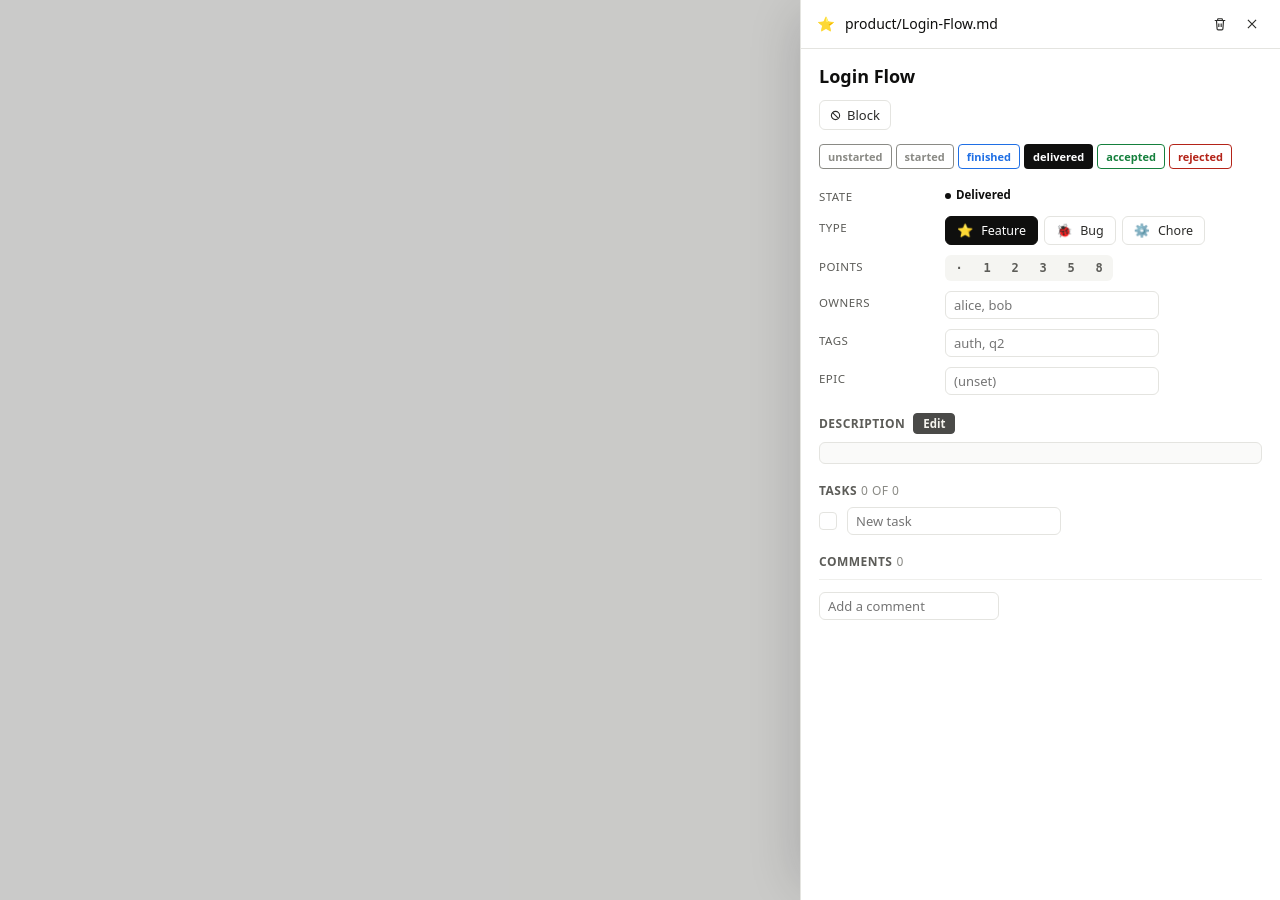
DetailPanel: state-machine buttons › opening Reject while the Accept ceremony is open closes the Accept ceremony (mutually exclusive)
What coordinates should you click on to do the following:
click the button "accepted"
I would click on:
 (1131, 157)
Its box is [1097, 144, 1165, 169].
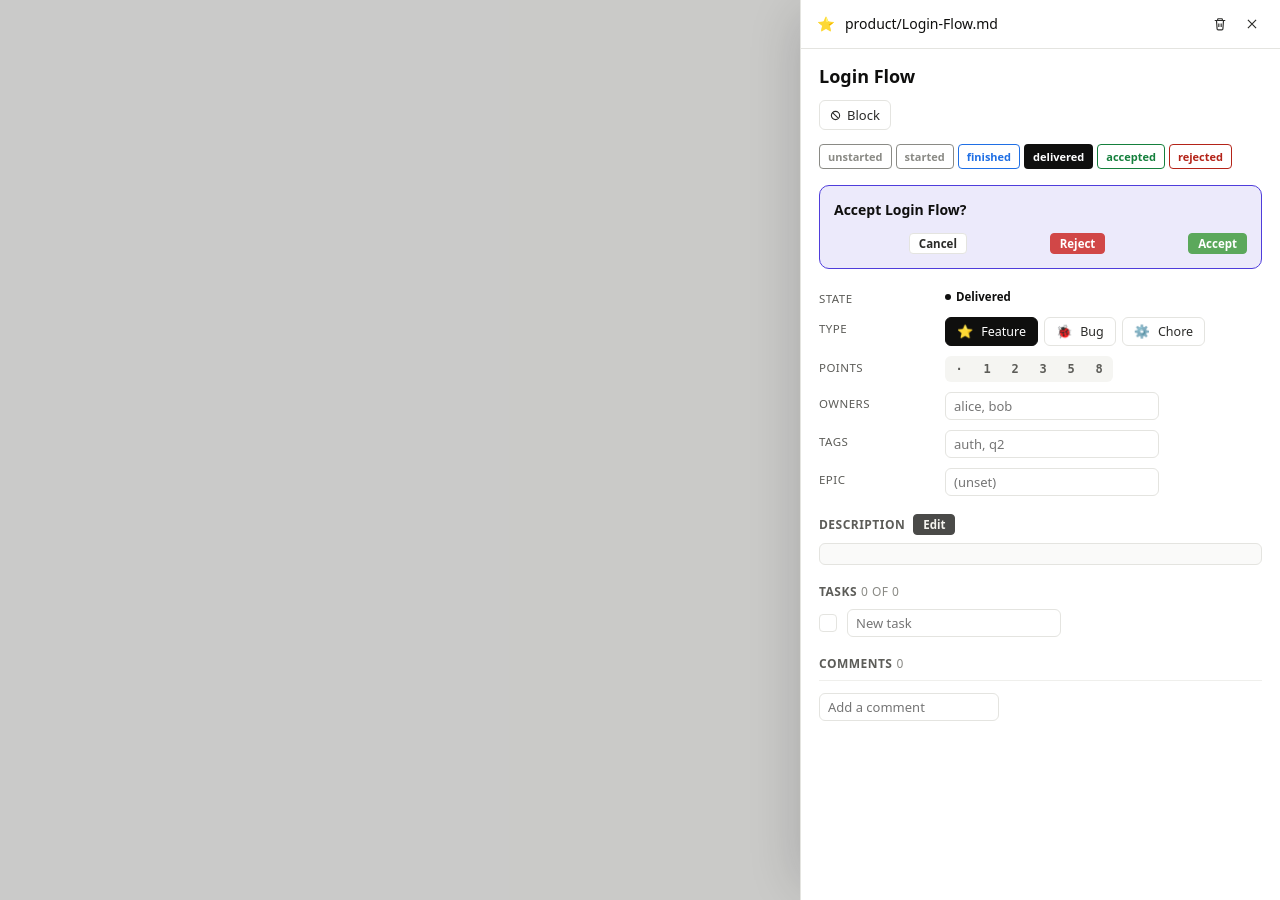
Check: the dialog named "PM acceptance ceremony" is shown, box [819, 185, 1262, 269]
# Click the Reject button inside the ceremony.
What coordinates should you click on to do the following:
click the button "Reject"
I would click on:
 (1078, 243)
Its box is [1050, 233, 1105, 254].
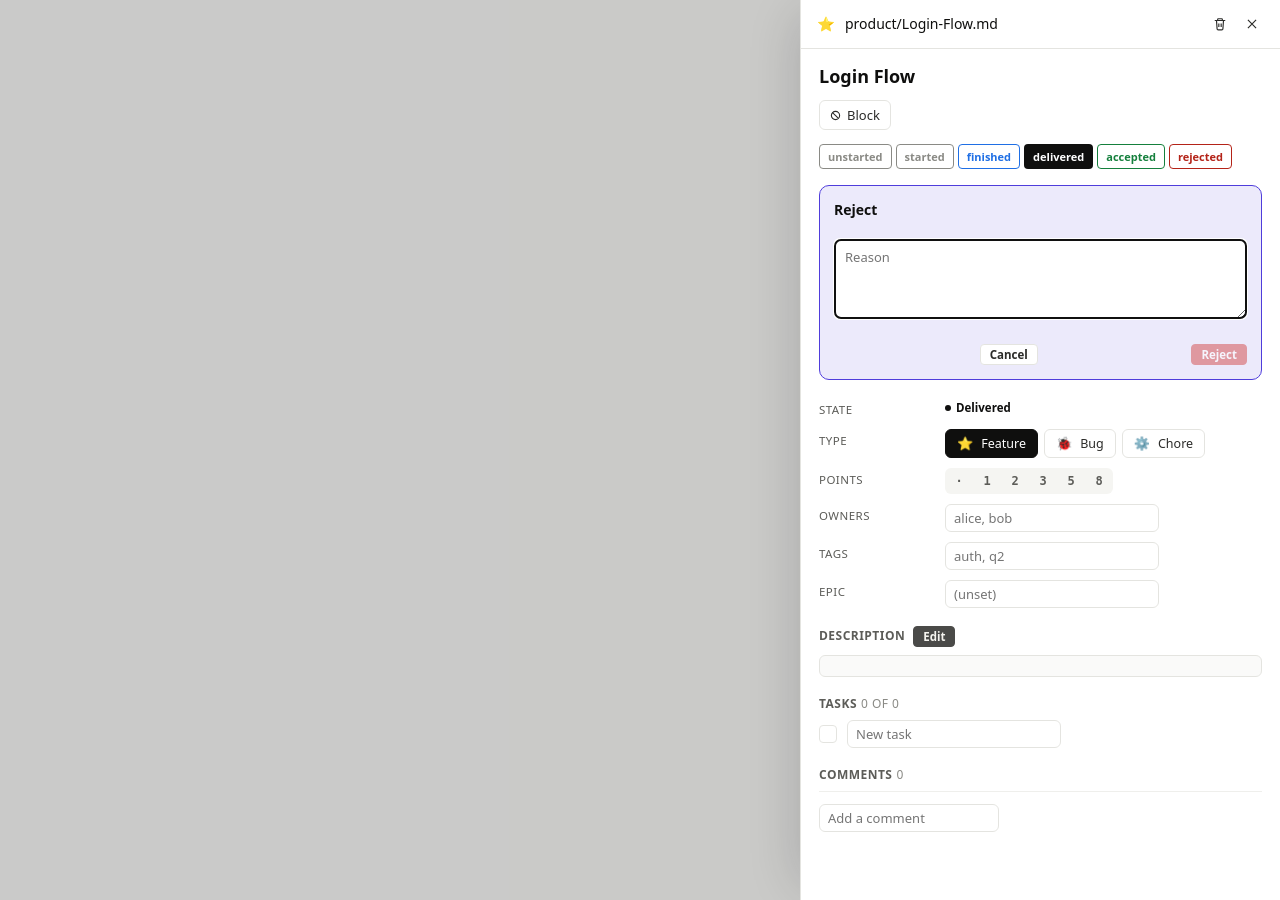
Check: the dialog named "Reject with reason" is shown, box [819, 185, 1262, 380]
